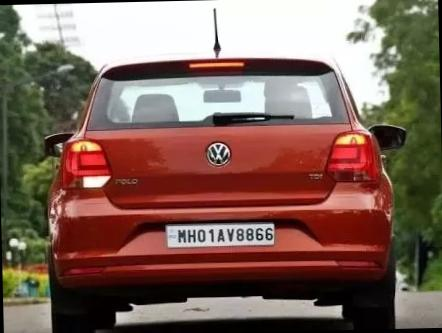plate: (161, 209, 287, 264)
